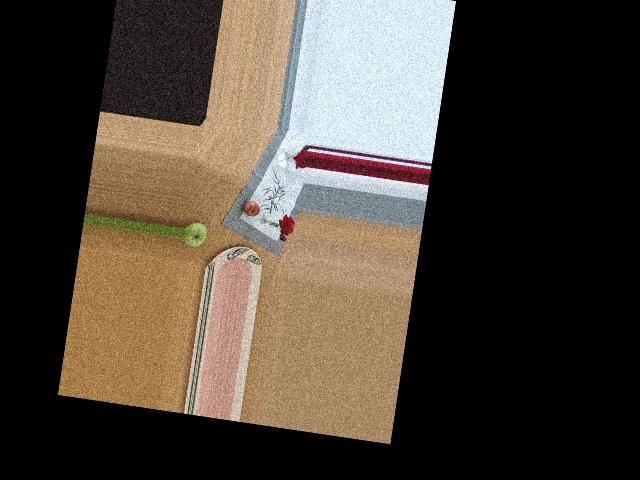apple: (181, 219, 209, 249)
